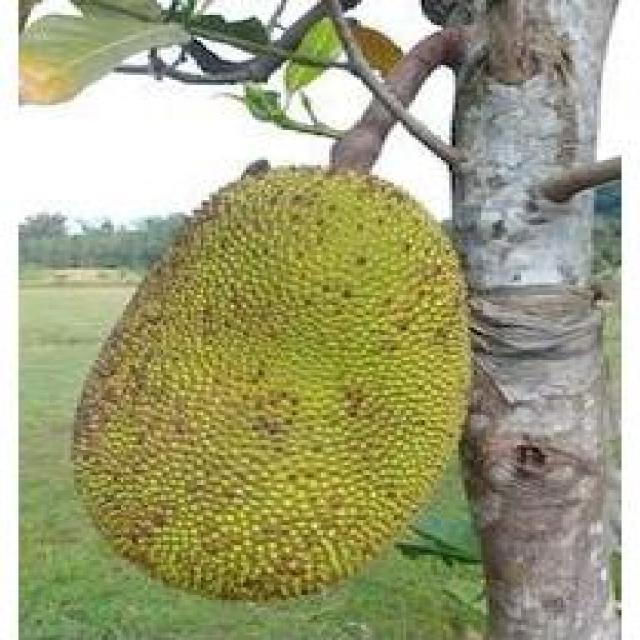Fruit: (160, 168, 511, 630)
